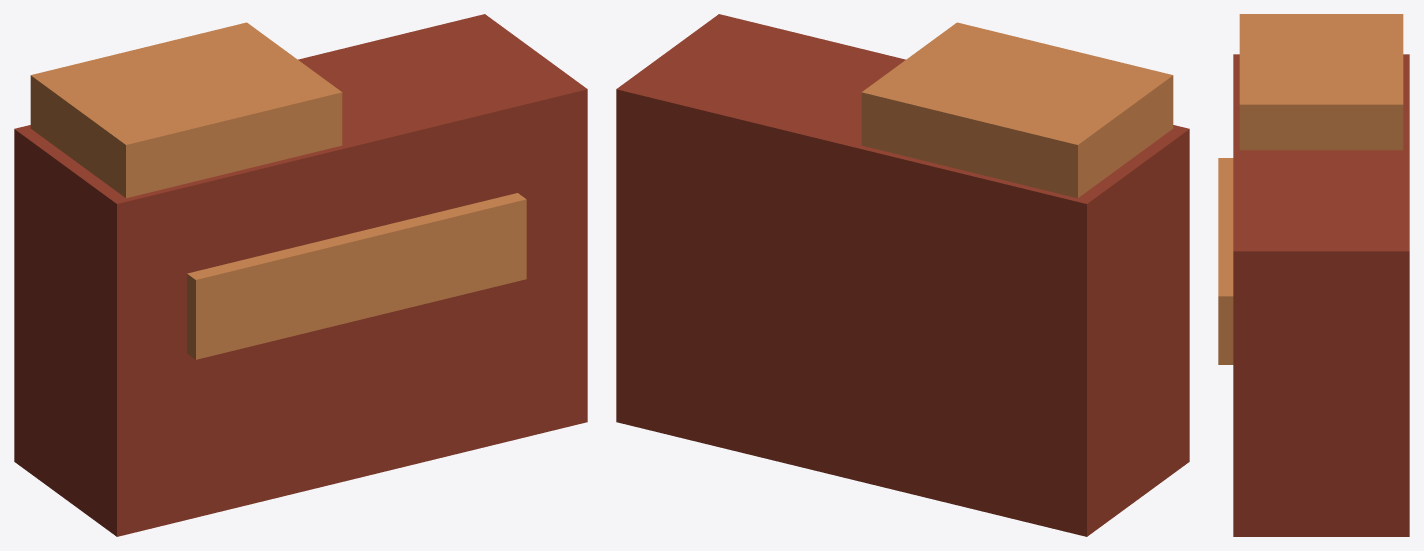
File: food.glb
3 renders of one model, left to right at view 1: azimuth 30°, elevation 25°; view 2: azimuth 150°, elevation 25°; view 3: azimuth 270°, elevation 25°, orthographic. The views are drawn at different scales.
Parts seen in each view (by area): view 1: food; view 2: food; view 3: food.
Part boxes in pixels (box(x1,y1,x2,y2)): food: box(14, 14, 587, 536); food: box(616, 14, 1189, 536); food: box(1218, 14, 1409, 536).
Bounding box in the file's own units: 0.37 × 0.29 × 0.152.
